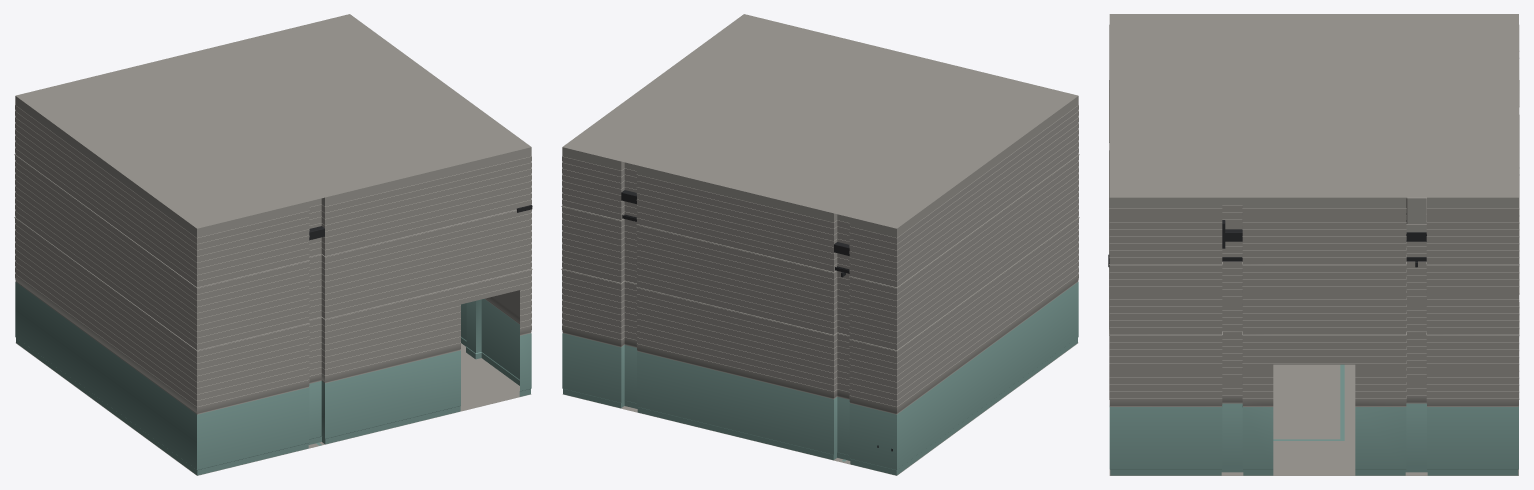
Rendered from shell_choir.glb.
3 renders of one model, left to right at view 1: azimuth 30°, elevation 25°; view 2: azimuth 150°, elevation 25°; view 3: azimuth 270°, elevation 25°, orthographic. The views are drawn at different scales.
Parts seen in each view (by area): view 1: choir_walls, choir_ceiling, choir_floor; view 2: choir_walls, choir_ceiling, choir_floor, choir_trim; view 3: choir_walls, choir_ceiling, choir_floor, choir_trim.
Part boxes in pixels (x1,y1,x2,y2): choir_walls: (14,96,532,475); choir_ceiling: (15,14,531,228); choir_floor: (15,342,531,475); choir_walls: (561,96,1079,475); choir_ceiling: (562,14,1078,228); choir_floor: (562,342,1078,475); choir_trim: (621,190,849,277); choir_walls: (1109,25,1519,475); choir_ceiling: (1109,14,1518,232); choir_floor: (1109,364,1518,475); choir_trim: (1108,229,1426,267).
Bounding box in the file's own units: 8.52 × 6 × 8.04.
